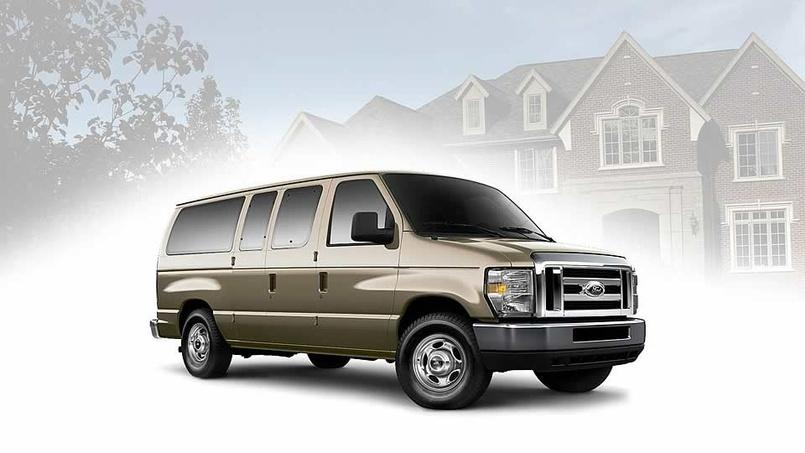car: (140, 160, 642, 416)
